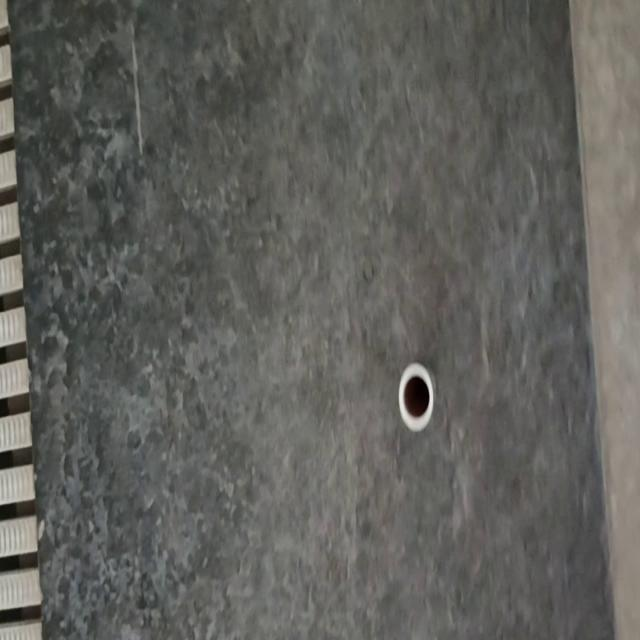Cube: (398, 361, 434, 432)
